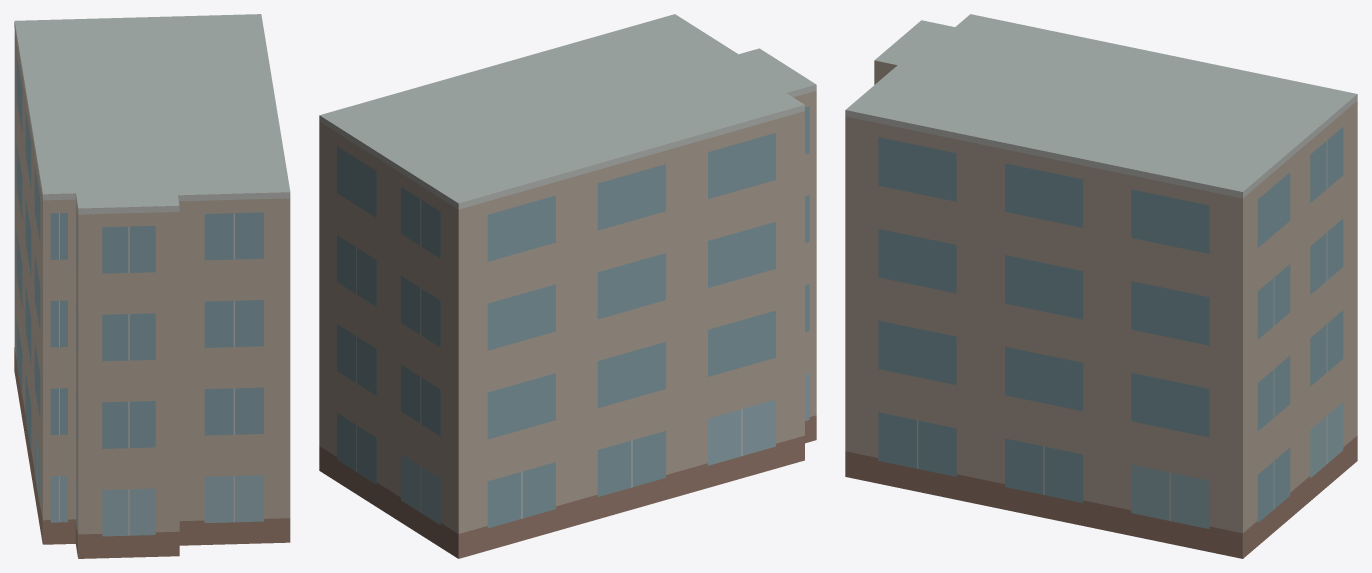
Rendered from survey-upis-32530004.glb.
3 renders of one model, left to right at view 1: azimuth 30°, elevation 25°; view 2: azimuth 150°, elevation 25°; view 3: azimuth 270°, elevation 25°, orthographic. The views are drawn at different scales.
Parts seen in each view (by area): view 1: survey-upis-32530004.tmp; view 2: survey-upis-32530004.tmp; view 3: survey-upis-32530004.tmp.
Boxes of the visible parts, box(x1,y1,x2,y2) form: survey-upis-32530004.tmp: box(14, 14, 290, 558); survey-upis-32530004.tmp: box(319, 14, 816, 558); survey-upis-32530004.tmp: box(845, 14, 1357, 558).
Bounding box in the file's own units: 14.58 × 14 × 17.73.
